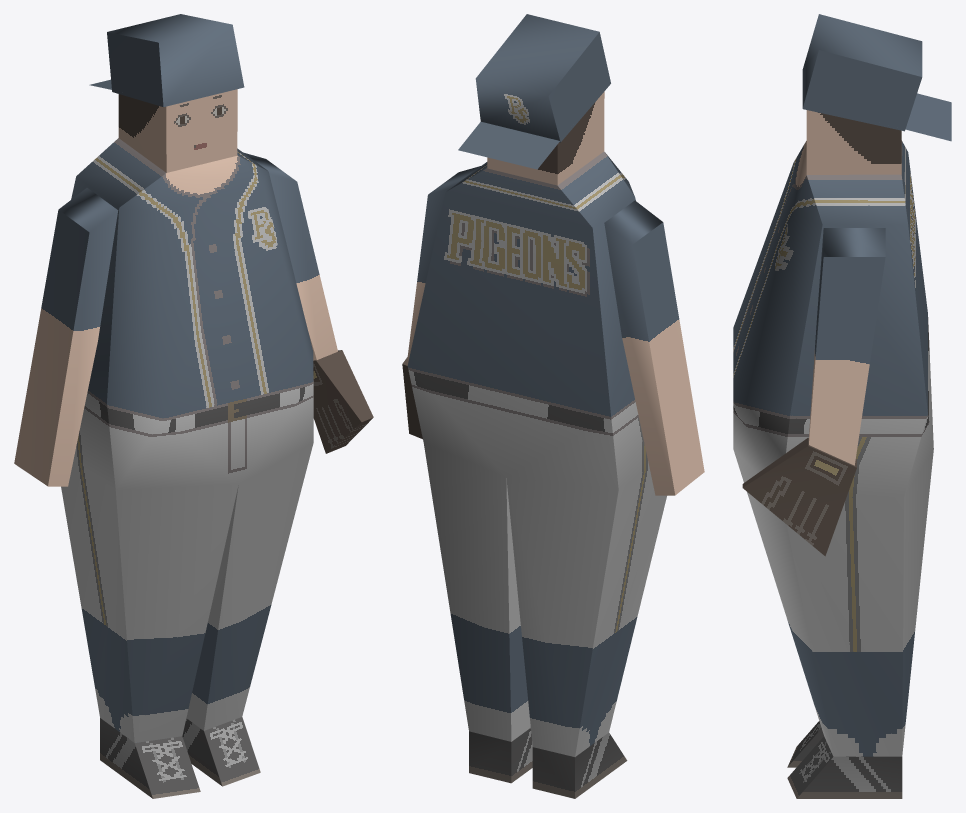
Rendered from 0230_Pitcher.glb.
3 renders of one model, left to right at view 1: azimuth 30°, elevation 25°; view 2: azimuth 150°, elevation 25°; view 3: azimuth 270°, elevation 25°, orthographic.
Parts seen in each view (by area): view 1: part_0; view 2: part_0; view 3: part_0.
Part boxes in pixels (box(x1,y1,x2,y2)): part_0: box(14, 14, 373, 798); part_0: box(402, 14, 704, 798); part_0: box(733, 14, 951, 798).
Size of the model in its own units: 0.7331 by 1.73 by 0.4626.
Materials: 1 (1 with a texture image).
